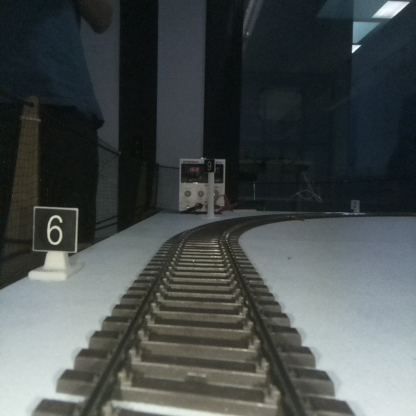black-info-9: (204, 158, 214, 218)
black-stop-6: (34, 209, 76, 277)
